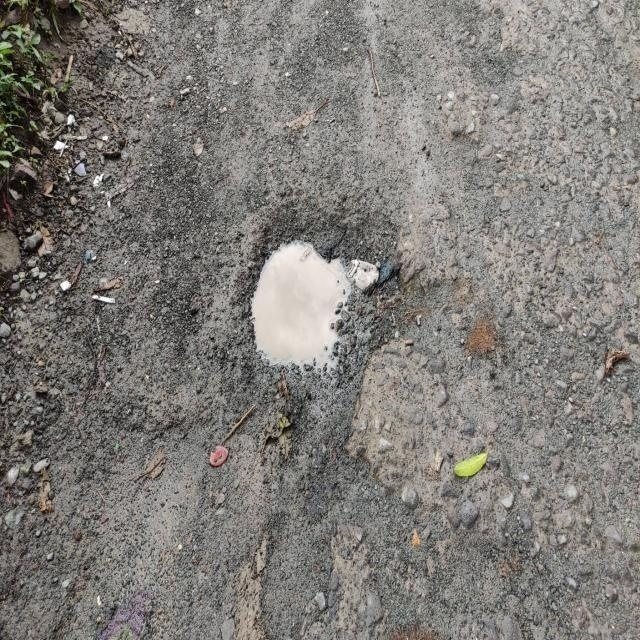pothole: (184, 136, 430, 462)
